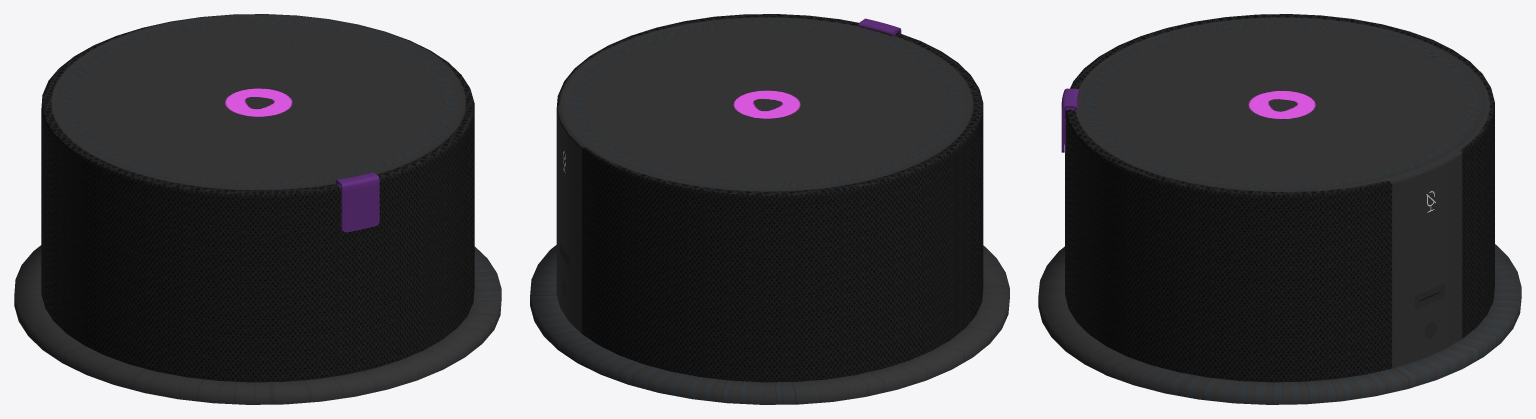
Rendered from deskAlisa1.gltf.
3 renders of one model, left to right at view 1: azimuth 30°, elevation 25°; view 2: azimuth 150°, elevation 25°; view 3: azimuth 270°, elevation 25°, orthographic.
Parts seen in each view (by area): view 1: deskAlisa1; view 2: deskAlisa1; view 3: deskAlisa1.
Part boxes in pixels (bbox=[...]): deskAlisa1: bbox=[14, 14, 501, 404]; deskAlisa1: bbox=[530, 14, 1009, 404]; deskAlisa1: bbox=[1038, 14, 1521, 404].
Size of the model in its own units: 0.5084 by 0.2356 by 0.5084.
Materials: 1 (1 with a texture image).
